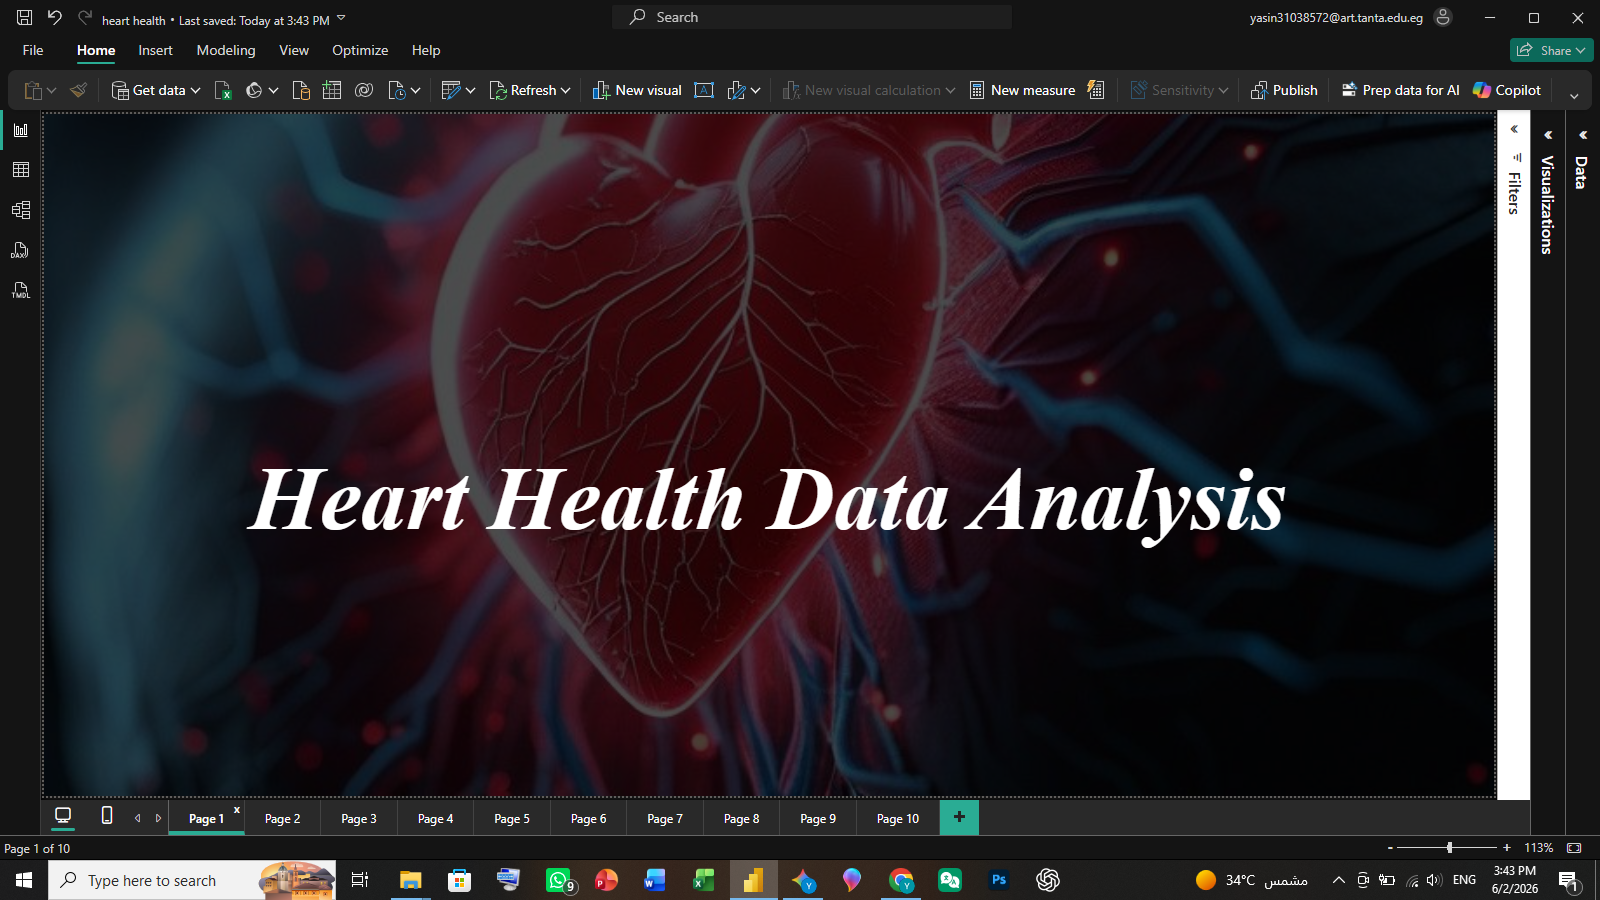

This screenshot's page, from the dashboard's own definition file:
{"tool":"powerbi","page":{"name":"Page 1","canvas":[1280,602],"ordinal":0},"visuals":[{"type":"textbox","box":[10.1,289.1,1258.9,114.8],"z":0}]}

Visuals, with their boxes on the page's 1280x602 design canvas (x1, y1, x2, y2). These are canvas units, not pixel positions in the 1600x900 screenshot, which may show the page scaled, cropped or inside an application window:
textbox: (10,289,1269,404)
